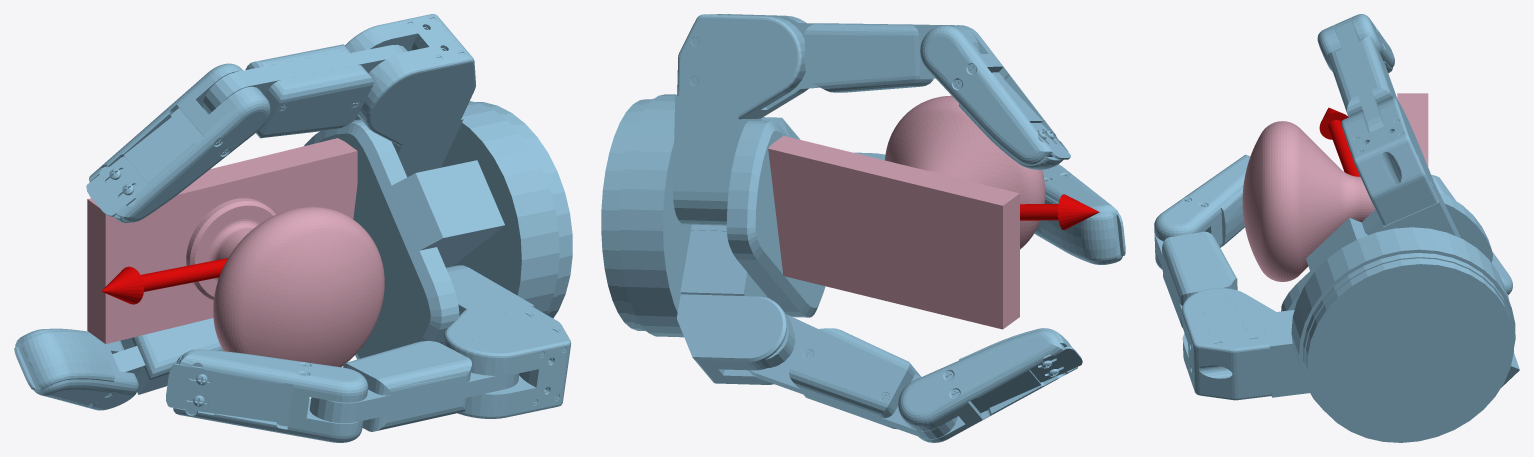
3 views of the same model, side by side, from view 1: azimuth 30°, elevation 25°; view 2: azimuth 150°, elevation 25°; view 3: azimuth 270°, elevation 25° (orthographic). The views are drawn at different scales.
Parts seen in each view (by area): view 1: world, door_knob.stl; view 2: world, door_knob.stl; view 3: world, door_knob.stl.
Boxes of the visible parts, box(x1,y1,x2,y2) form: world: box(14, 14, 572, 442); door_knob.stl: box(87, 138, 384, 367); world: box(601, 14, 1125, 442); door_knob.stl: box(768, 95, 1045, 329); world: box(1154, 14, 1519, 442); door_knob.stl: box(1242, 93, 1428, 281).
Bounding box in the file's own units: 0.1951 × 0.1442 × 0.1477.
